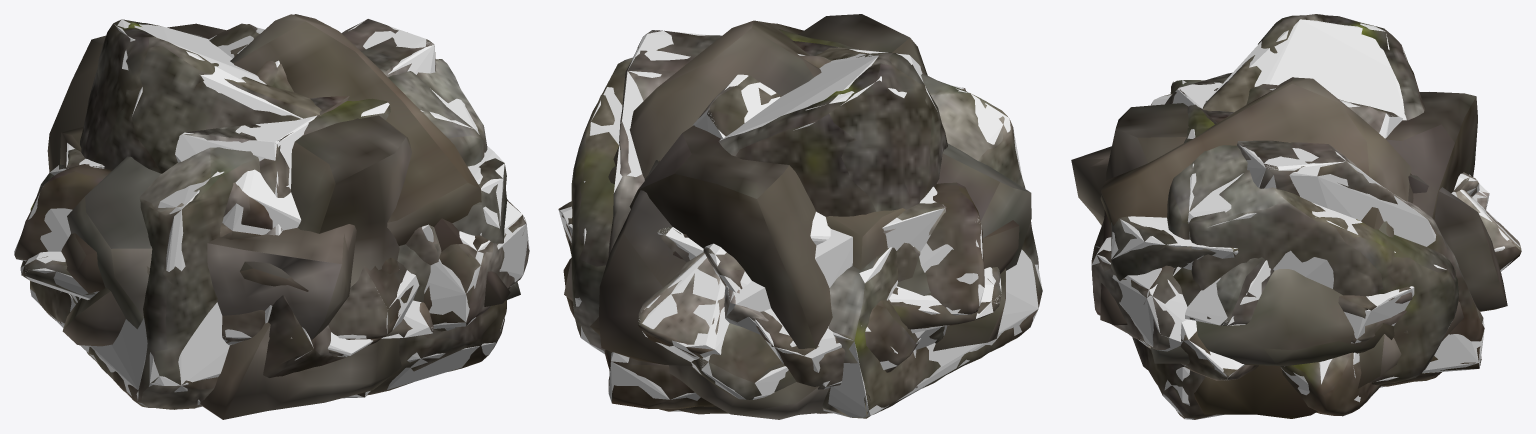
File: rocks.glb
The picture shows the model from 3 angles, left to right: view 1: azimuth 30°, elevation 25°; view 2: azimuth 150°, elevation 25°; view 3: azimuth 270°, elevation 25°; orthographic projection. The views are drawn at different scales.
Parts seen in each view (by area): view 1: pebble_3, pebble_2, rock_0, rock_6, pebble_5, rock_hull_0, rock_5, rock_hull_6, rock_hull_5, rock_hull_1, rock_3, rock_1 (+13 smaller); view 2: pebble_3, rock_6, rock_0, pebble_2, pebble_0, rock_hull_0, rock_5, rock_8, rock_9, rock_7, rock_hull_1, rock_hull_5 (+14 smaller); view 3: rock_0, pebble_2, pebble_3, pebble_4, rock_hull_6, rock_hull_5, rock_6, rock_5, pebble_0, rock_4, rock_1, rock_hull_1 (+13 smaller).
Boxes of the visible parts, <box> form: pebble_3: <box>47,23,412,419</box>; pebble_2: <box>67,14,481,409</box>; rock_0: <box>30,59,487,409</box>; rock_6: <box>60,19,506,395</box>; pebble_5: <box>62,224,356,346</box>; rock_hull_0: <box>30,88,480,407</box>; rock_5: <box>178,19,435,377</box>; rock_hull_6: <box>60,19,505,389</box>; rock_hull_5: <box>175,20,435,360</box>; rock_hull_1: <box>66,143,529,328</box>; rock_3: <box>328,260,413,339</box>; rock_1: <box>66,149,529,325</box>; pebble_3: <box>629,14,927,348</box>; rock_6: <box>659,47,947,414</box>; rock_0: <box>571,29,1042,418</box>; pebble_2: <box>564,20,1031,419</box>; pebble_0: <box>599,160,692,365</box>; rock_hull_0: <box>575,87,1042,417</box>; rock_5: <box>605,30,925,409</box>; rock_8: <box>558,182,984,314</box>; rock_9: <box>703,248,919,390</box>; rock_7: <box>691,257,944,399</box>; rock_hull_1: <box>724,186,945,335</box>; rock_hull_5: <box>608,30,923,402</box>; rock_0: <box>1167,80,1458,385</box>; pebble_2: <box>1100,77,1411,418</box>; pebble_3: <box>1106,92,1477,219</box>; pebble_4: <box>1151,221,1394,365</box>; rock_hull_6: <box>1157,18,1406,419</box>; rock_hull_5: <box>1172,82,1484,373</box>; rock_6: <box>1132,14,1441,419</box>; rock_5: <box>1165,72,1484,373</box>; pebble_0: <box>1408,175,1507,311</box>; rock_4: <box>1151,84,1398,416</box>; rock_1: <box>1091,191,1489,349</box>; rock_hull_1: <box>1092,174,1489,351</box>.
Size of what is drawn, in the model's own units: 1.94 by 1.41 by 1.94.
1 material, 1 textured.
